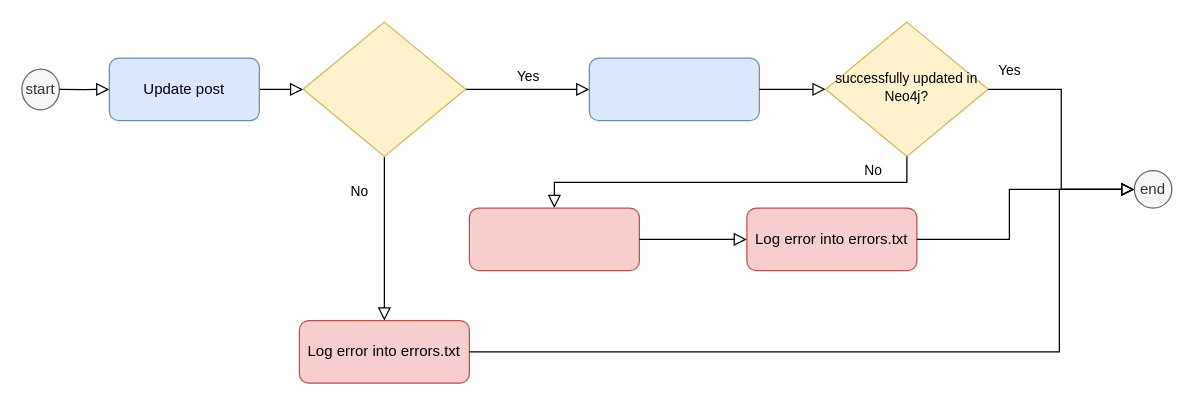
Image size: 1194x405. Some labels were removed from this diagram. The shapes that lost their labels are listed below. From the top down, each one's centre as x and y in pixels, then its label:
the point at 384,88: successfully updated in MongoDB?
the point at 673,89: update also in Neo4j
the point at 553,239: Undo updates in MongoDB
